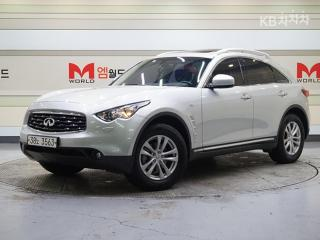3: (41, 137, 45, 146), (51, 138, 55, 147), (30, 136, 34, 144)
5: (44, 137, 48, 146)
6: (48, 138, 52, 146)
8: (33, 137, 36, 145)
노: (35, 137, 40, 145)
